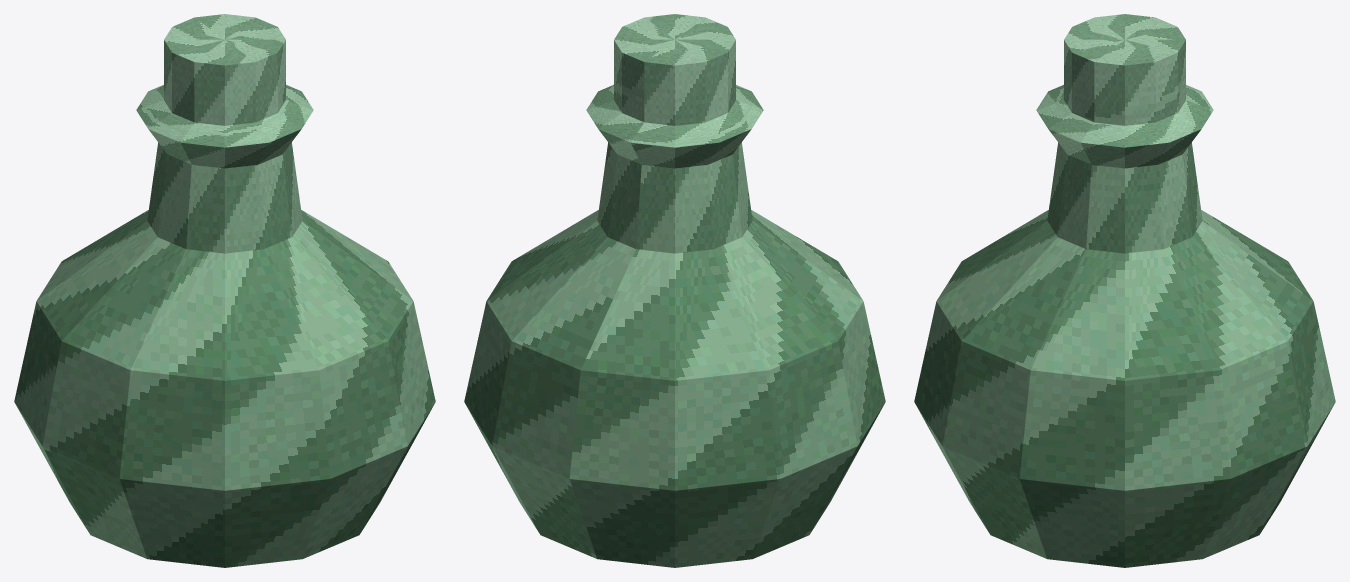
Rendered from extrato_de_urtiga.glb.
3 views of the same model, side by side, from view 1: azimuth 30°, elevation 25°; view 2: azimuth 150°, elevation 25°; view 3: azimuth 270°, elevation 25° (orthographic).
Parts seen in each view (by area): view 1: extrato_de_urtiga; view 2: extrato_de_urtiga; view 3: extrato_de_urtiga.
Part boxes in pixels (x1,y1,x2,y2): extrato_de_urtiga: (14,14,435,567); extrato_de_urtiga: (464,14,885,567); extrato_de_urtiga: (914,14,1335,567).
Bounding box in the file's own units: 0.1824 × 0.2304 × 0.1824.
Materials: 1 (1 with a texture image).
